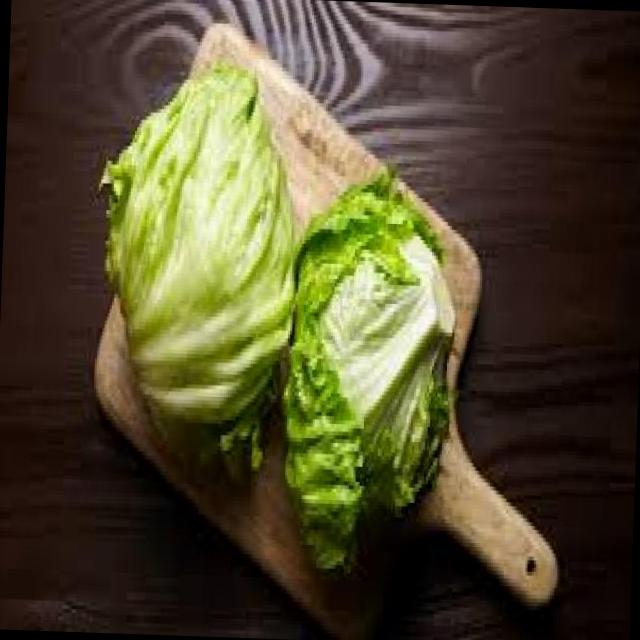Lettuce-Ready-to-Harvest: (107, 62, 296, 427), (284, 171, 454, 572)
